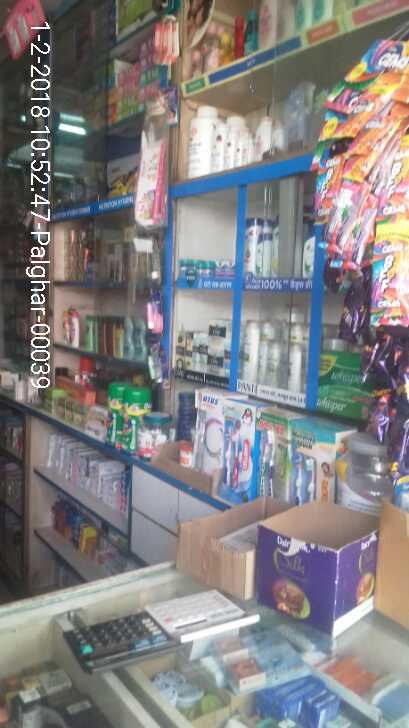vicks: (177, 257, 240, 280)
